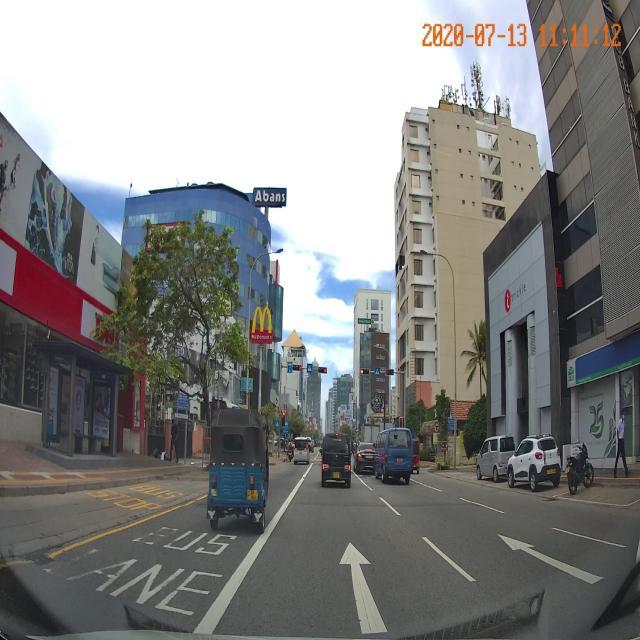forward: (189, 518, 535, 633)
